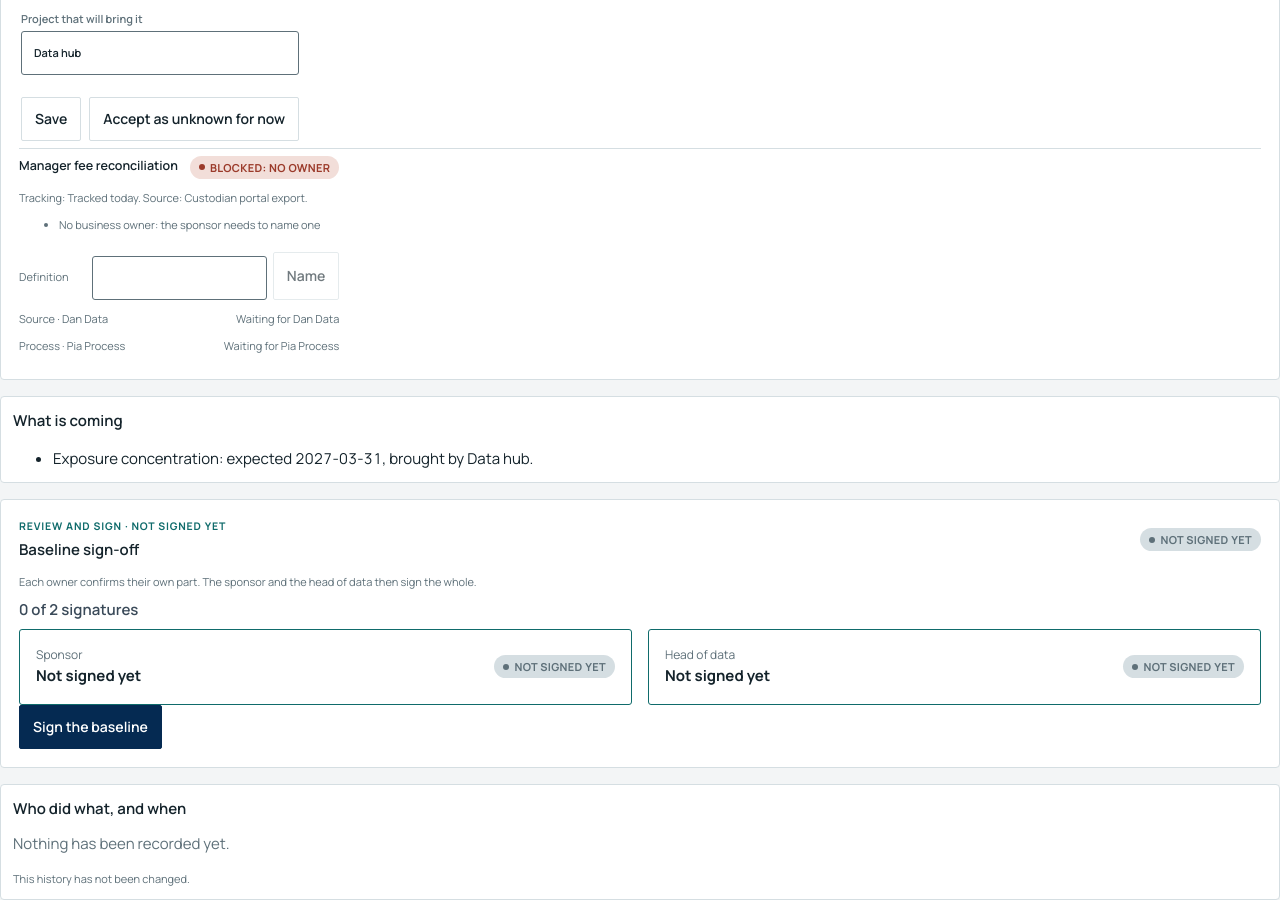
Scenario: M2-FIX-N › D10: while a signature is saving the page says so, then shows the signature, never a stale 'Not signed yet'
The image size is (1280, 900).
(page scrolled)
Click the button "Sign the baseline". click: [90, 726]
box: [19,704,162,748]
(page scrolled)
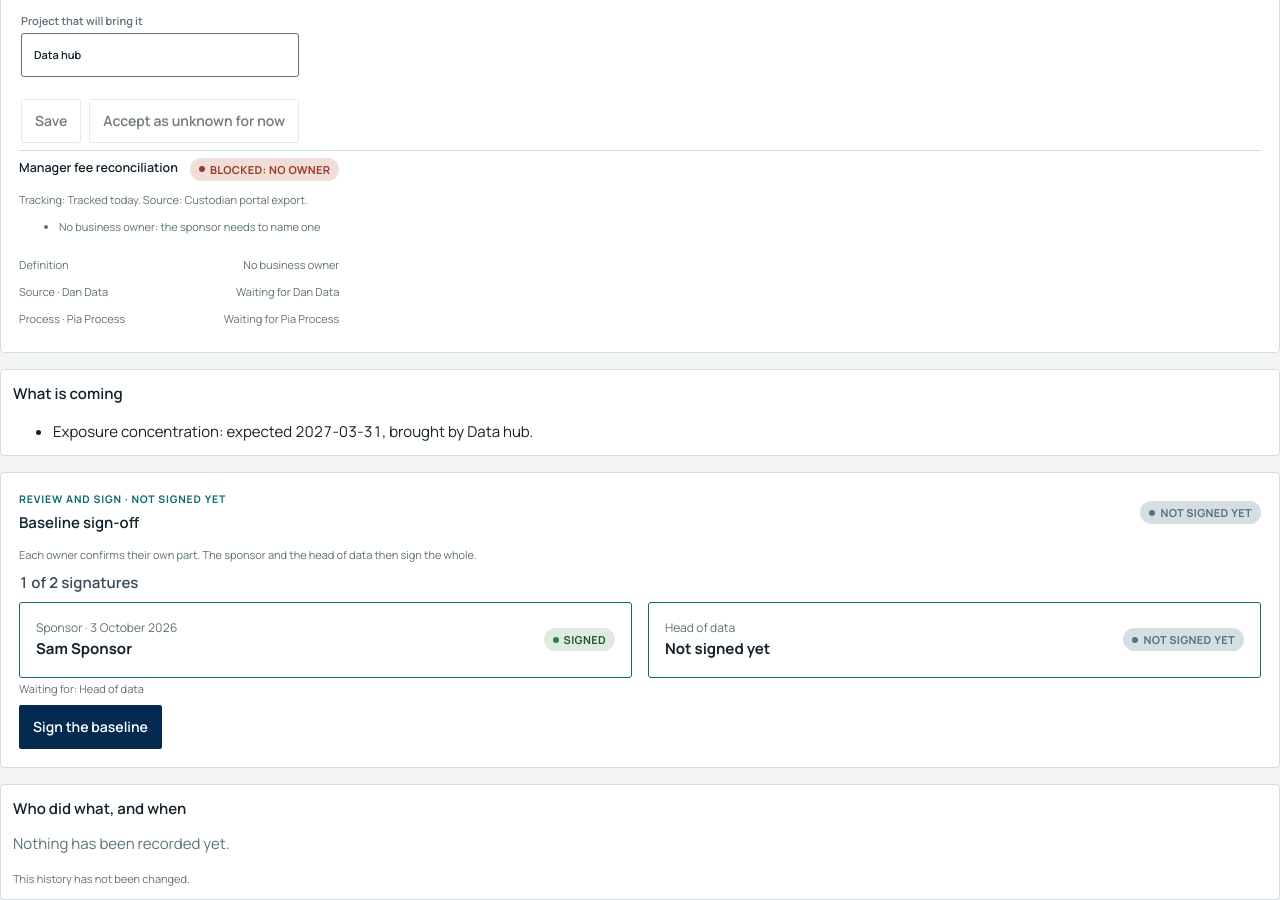
Expected: the text "Sam Sponsor" is shown, [36,638,132,659]
